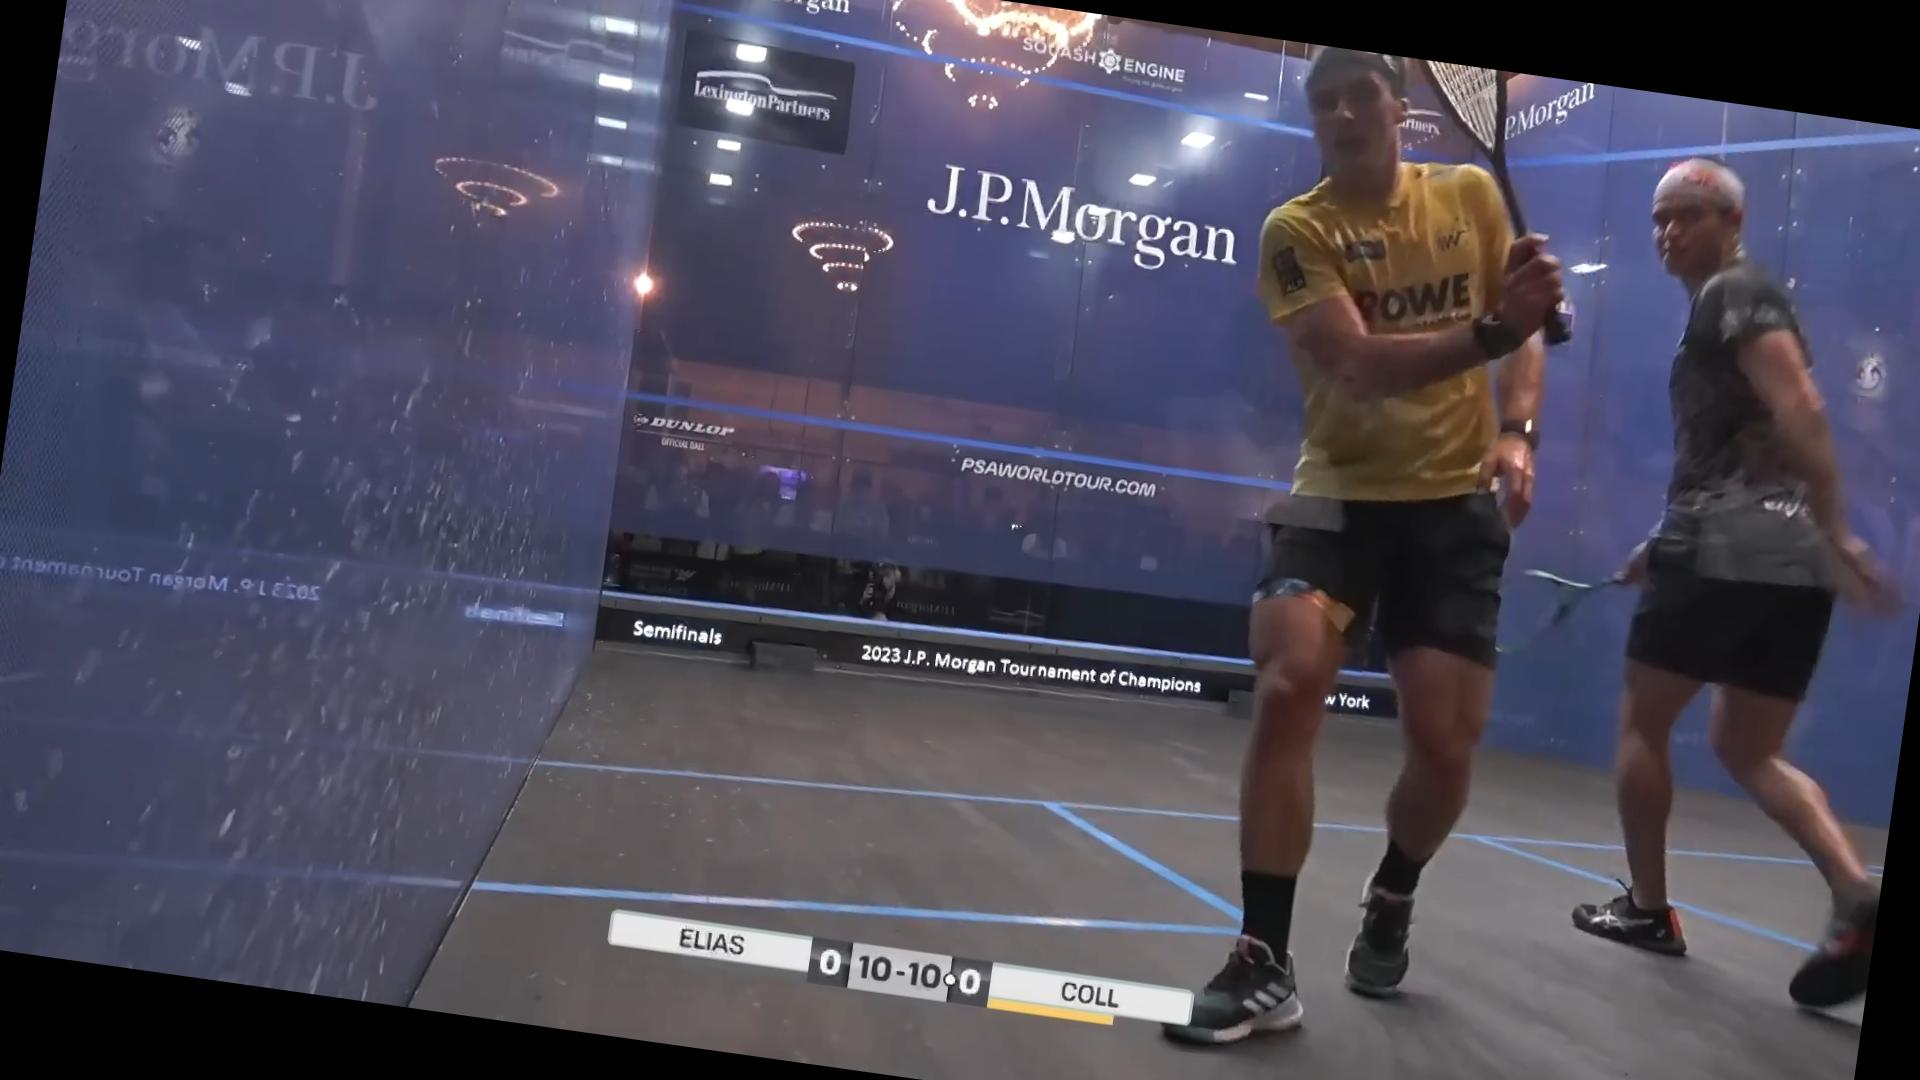Racket: (1370, 58, 1617, 352), (1487, 556, 1618, 676)
